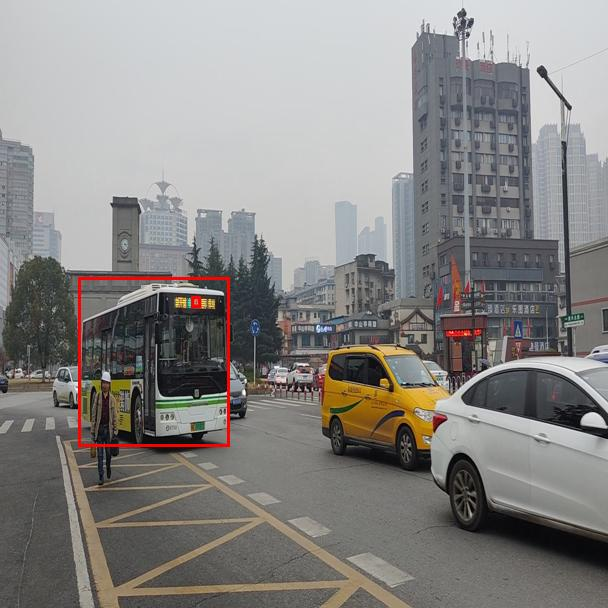bus: (78, 277, 229, 446)
screen: (191, 296, 200, 307)
